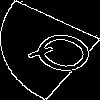Q: (24, 25, 100, 84)
